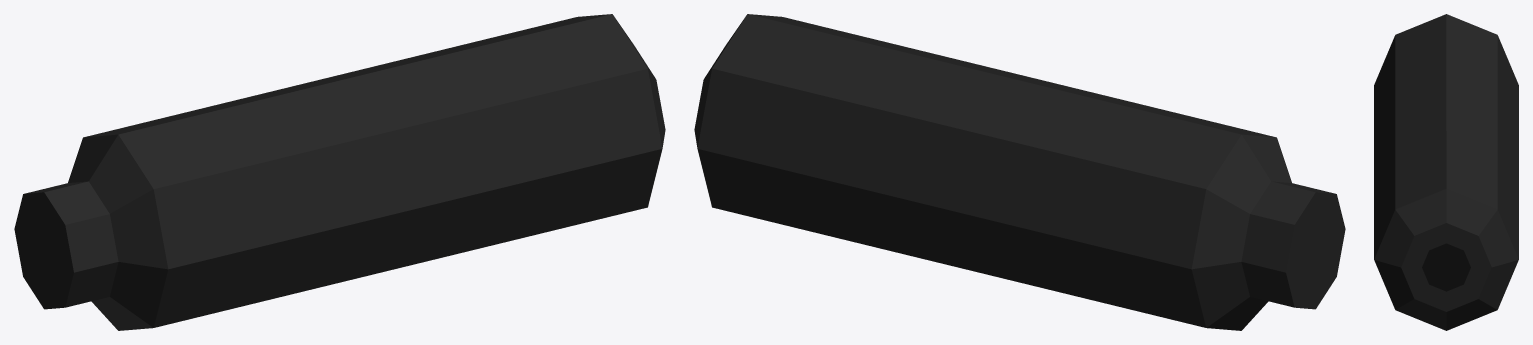
The model's file is Accesories_Silencer_V1.FBX.
3 renders of one model, left to right at view 1: azimuth 30°, elevation 25°; view 2: azimuth 150°, elevation 25°; view 3: azimuth 270°, elevation 25°, orthographic. The views are drawn at different scales.
Parts seen in each view (by area): view 1: Accesories_Silencer_V1; view 2: Accesories_Silencer_V1; view 3: Accesories_Silencer_V1.
Part boxes in pixels (<box>): Accesories_Silencer_V1: <box>14,14,665,330</box>; Accesories_Silencer_V1: <box>694,14,1345,330</box>; Accesories_Silencer_V1: <box>1374,14,1518,330</box>.
Bounding box in the file's own units: 149 × 47.53 × 43.83.
